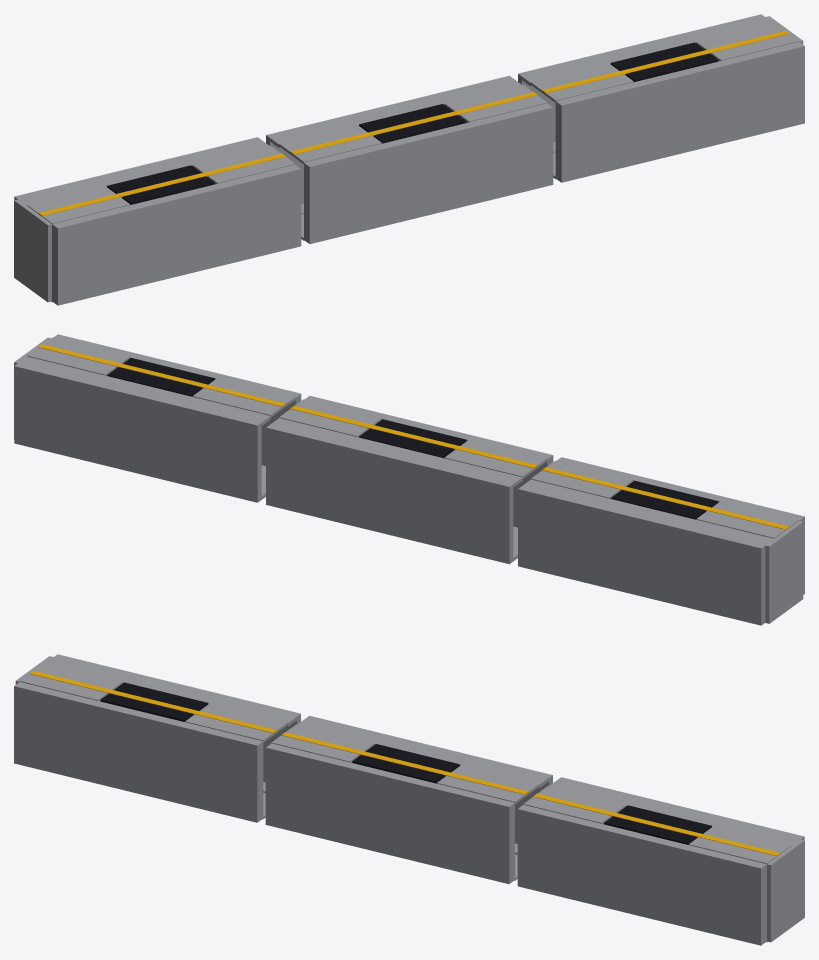
The model's file is metro_train_yellow_closed.obj.
The picture shows the model from 3 angles, top to bottom: view 1: azimuth 30°, elevation 25°; view 2: azimuth 150°, elevation 25°; view 3: azimuth 330°, elevation 25°; orthographic projection.
Parts seen in each view (by area): view 1: metro_train_yellow_closed; view 2: metro_train_yellow_closed; view 3: metro_train_yellow_closed.
Part boxes in pixels (box(x1,y1,x2,y2)): metro_train_yellow_closed: box(14, 14, 804, 305); metro_train_yellow_closed: box(14, 334, 804, 625); metro_train_yellow_closed: box(14, 654, 804, 945).
Bounding box in the file's own units: 9 × 0.91 × 0.9.
